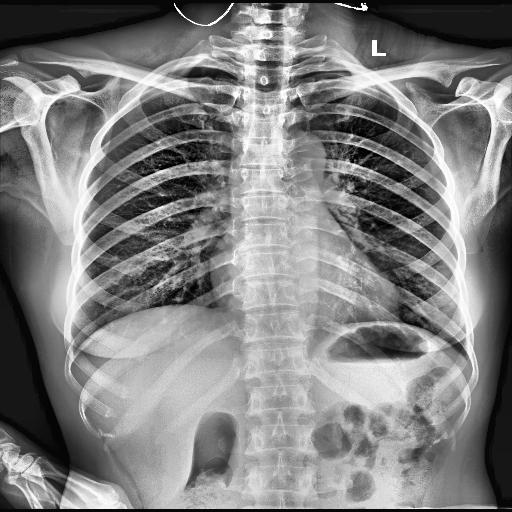0- Aortic enlargement: (274, 129, 330, 189), (268, 128, 328, 182), (275, 132, 325, 180)
